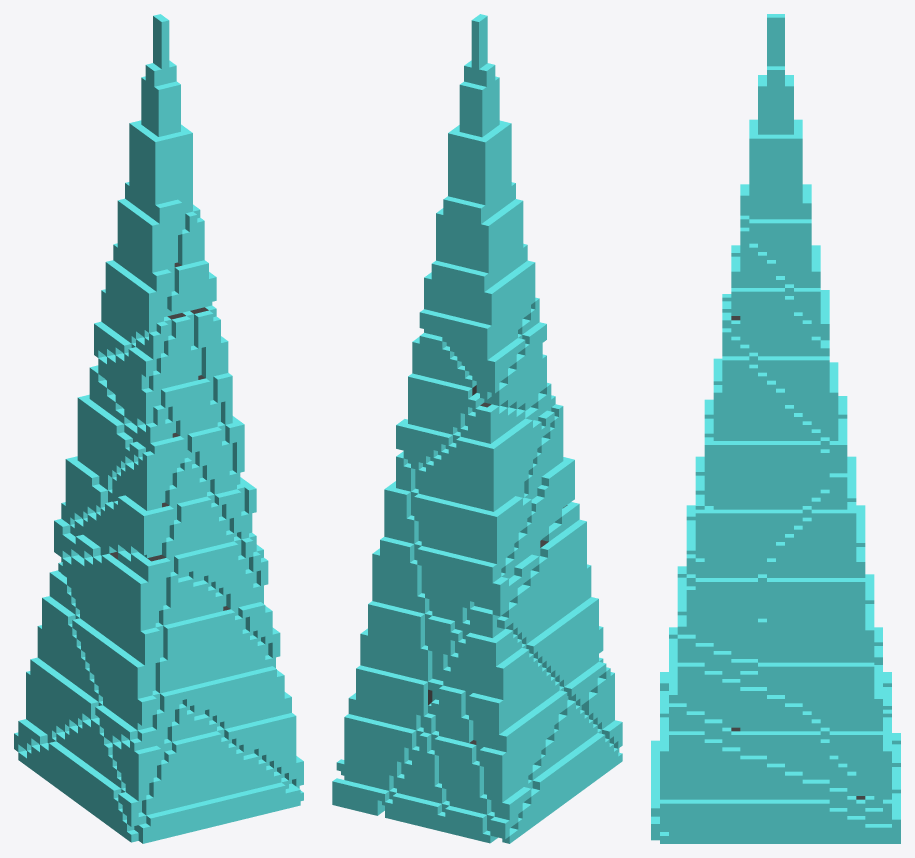
The model's file is EstalactiteGelo.obj.
3 renders of one model, left to right at view 1: azimuth 30°, elevation 25°; view 2: azimuth 150°, elevation 25°; view 3: azimuth 270°, elevation 25°, orthographic. The views are drawn at different scales.
Size of the model in its own units: 2.3 by 9.7 by 2.8.
1 material, 1 textured.
